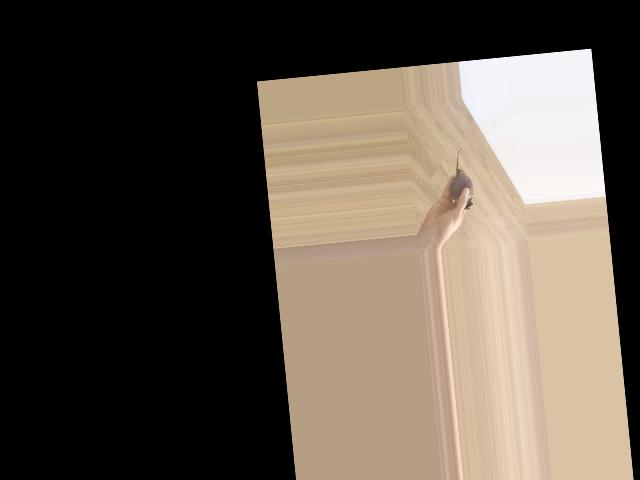beet: (446, 146, 475, 211)
